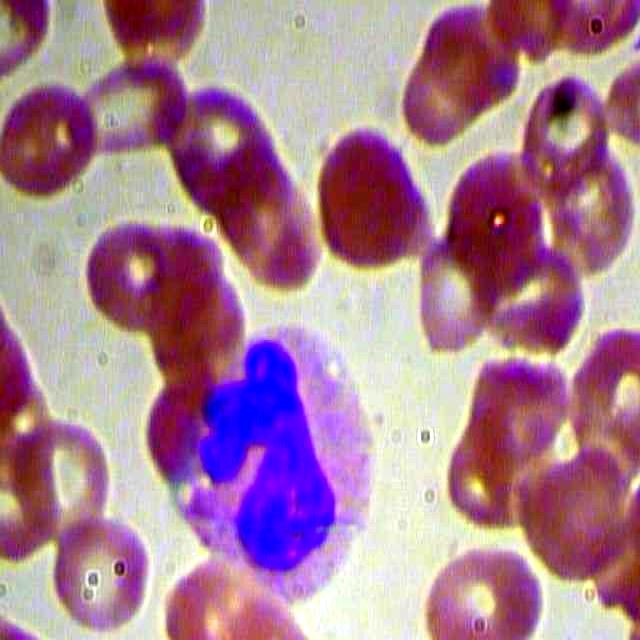RBC: (311, 127, 429, 280), (72, 44, 192, 177), (8, 412, 113, 537), (492, 235, 597, 360), (52, 506, 153, 630), (424, 537, 546, 639), (1, 79, 95, 209), (83, 213, 181, 332), (522, 70, 612, 194), (411, 230, 501, 354), (425, 1, 522, 116)
WBC: (152, 316, 388, 605)
